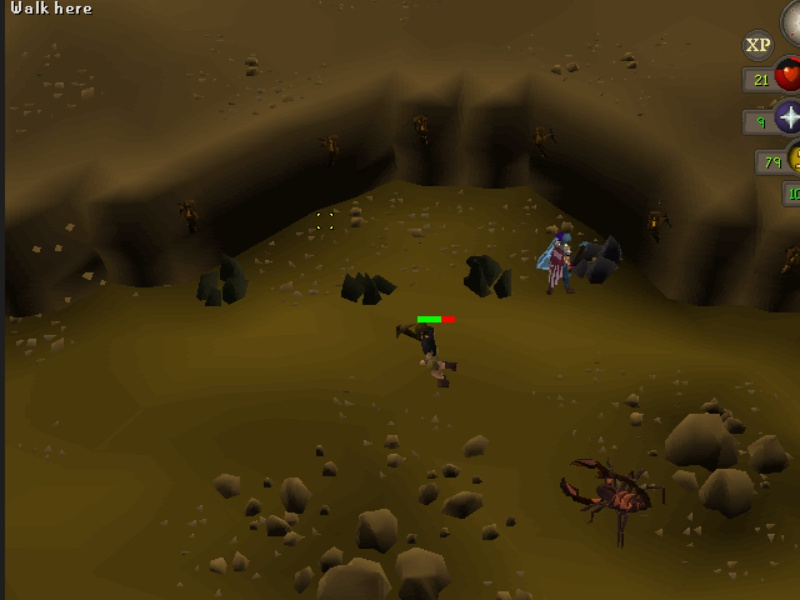coal: (193, 249, 252, 308), (461, 253, 516, 303), (337, 267, 400, 308)
